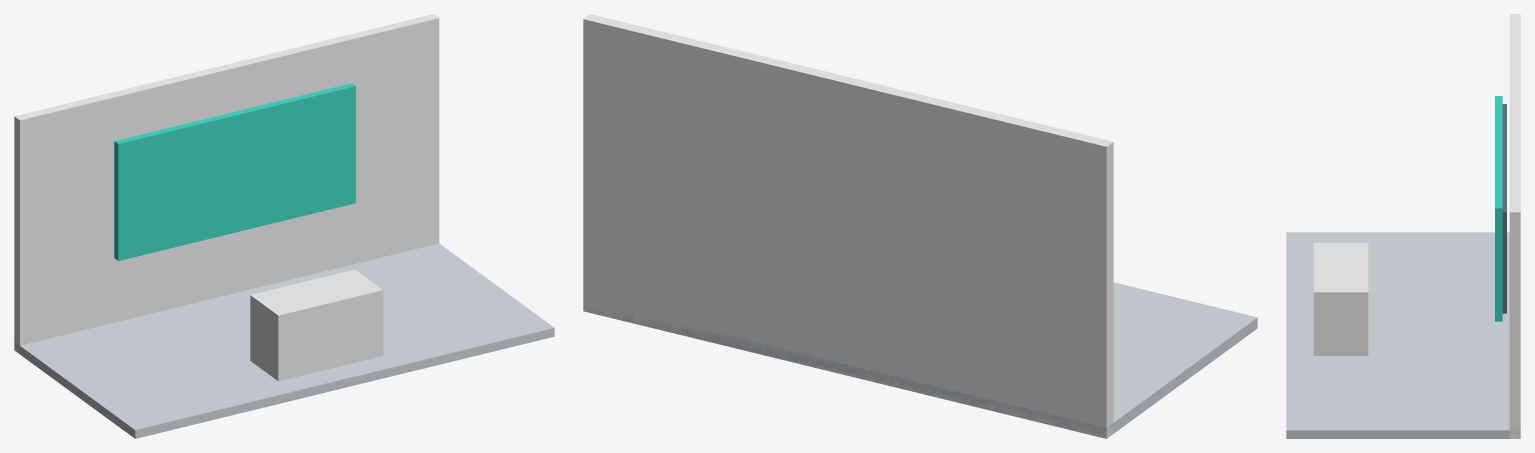
3 views of the same model, side by side, from view 1: azimuth 30°, elevation 25°; view 2: azimuth 150°, elevation 25°; view 3: azimuth 270°, elevation 25° (orthographic). The views are drawn at different scales.
Visible parts, largest first — view 1: Exhibition Booth Concept; view 2: Exhibition Booth Concept; view 3: Exhibition Booth Concept.
Boxes of the visible parts, box(x1,y1,x2,y2) form: Exhibition Booth Concept: box(14, 14, 554, 438); Exhibition Booth Concept: box(583, 14, 1257, 438); Exhibition Booth Concept: box(1286, 14, 1520, 438).
Size of the model in its own units: 6 by 3.2 by 3.
